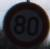Speed Limit -80-: (0, 1, 49, 48)
